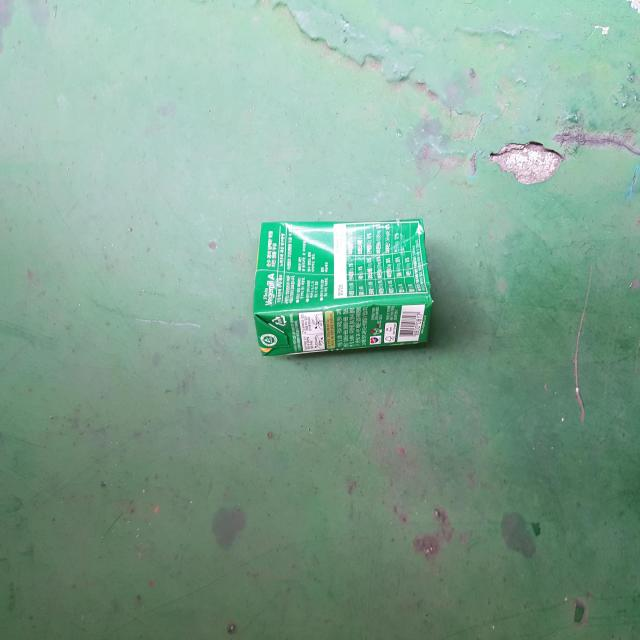paperpack: (253, 218, 433, 356)
